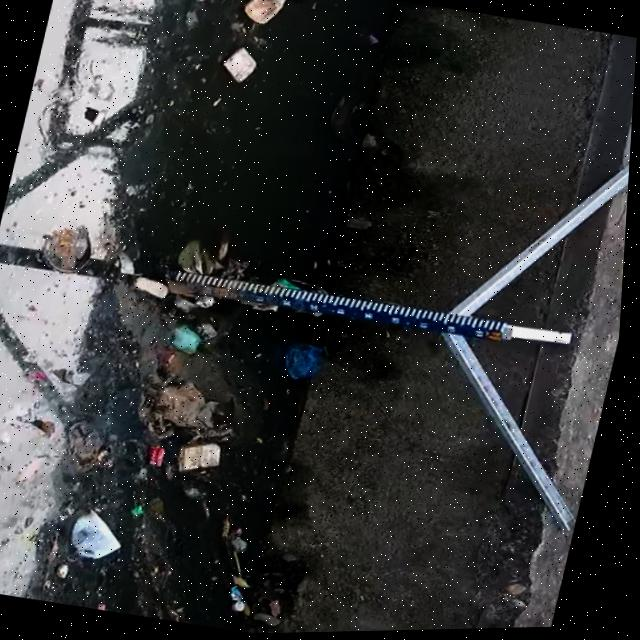water-meter: (143, 253, 518, 355)
